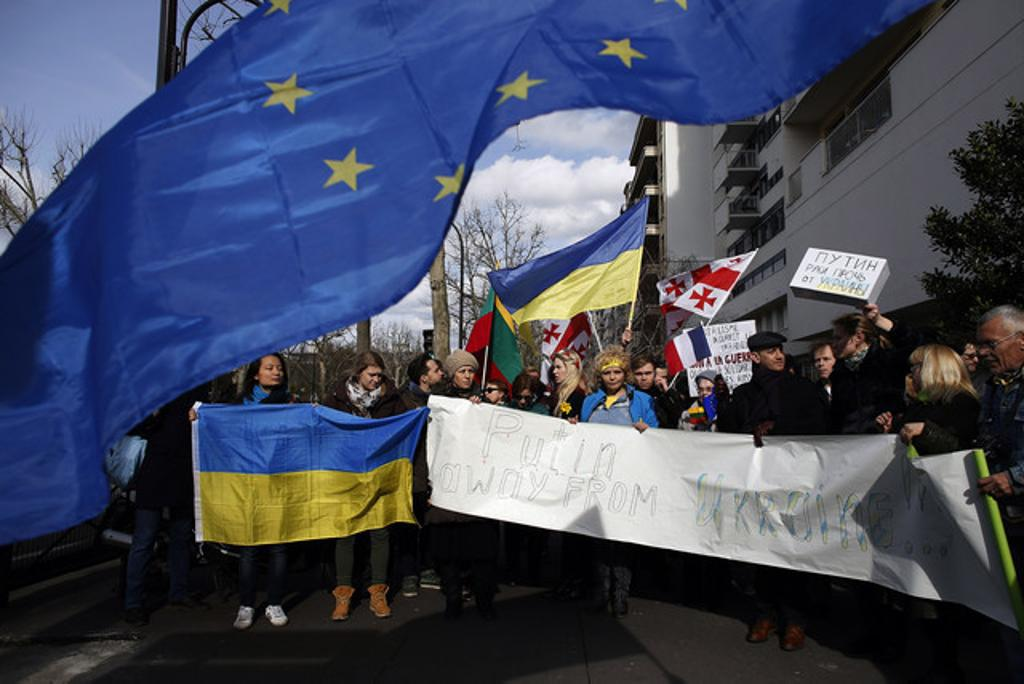face: (979, 322, 1017, 375), (834, 327, 856, 361), (813, 349, 837, 380), (260, 357, 284, 387), (422, 356, 445, 386), (761, 347, 787, 372), (911, 362, 931, 394), (635, 365, 656, 391), (364, 364, 384, 391), (604, 366, 625, 391), (454, 365, 475, 389), (964, 344, 979, 374), (515, 388, 534, 411), (554, 356, 569, 385), (657, 370, 670, 393), (486, 385, 499, 405), (699, 380, 710, 401), (718, 380, 728, 394)
